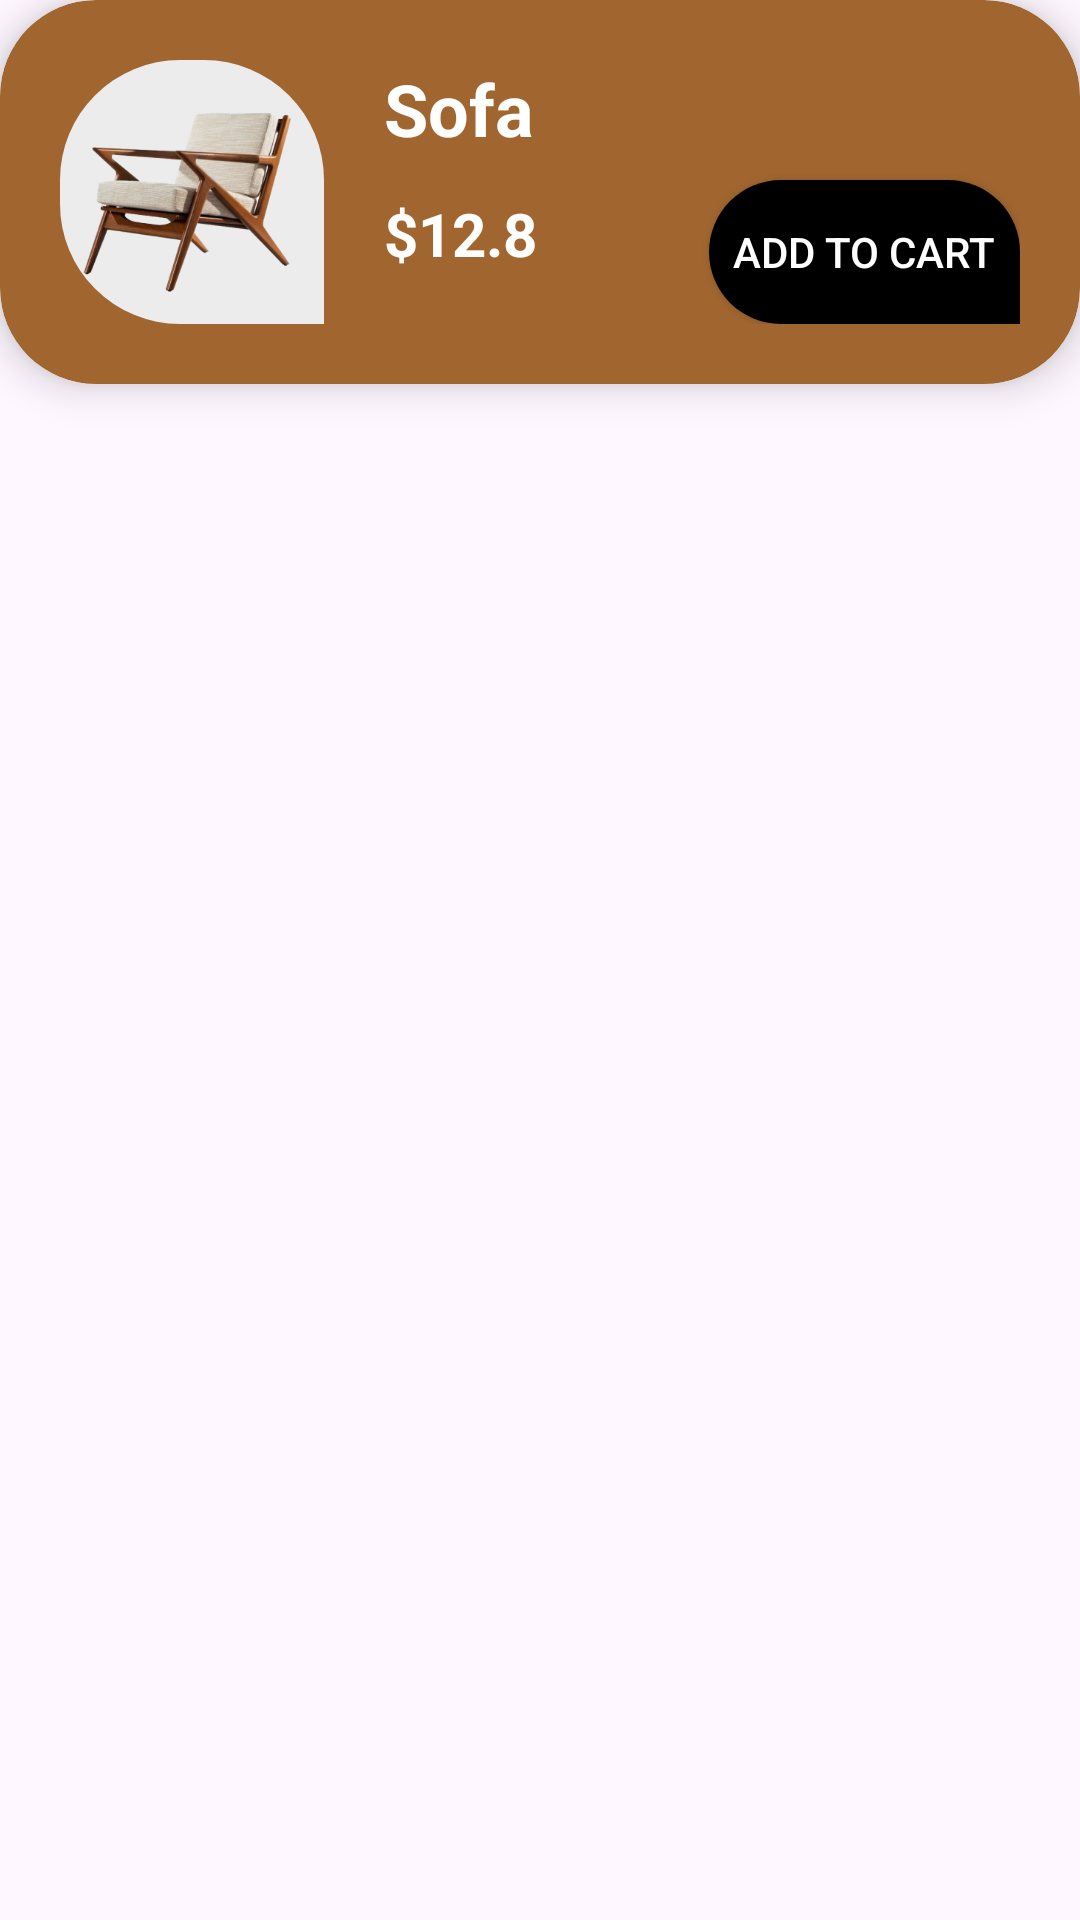

Point at icon controls on the screen. Image size 1080px x 1920px, points as (x=x, y=y).
wood chair: (x=192, y=192)
